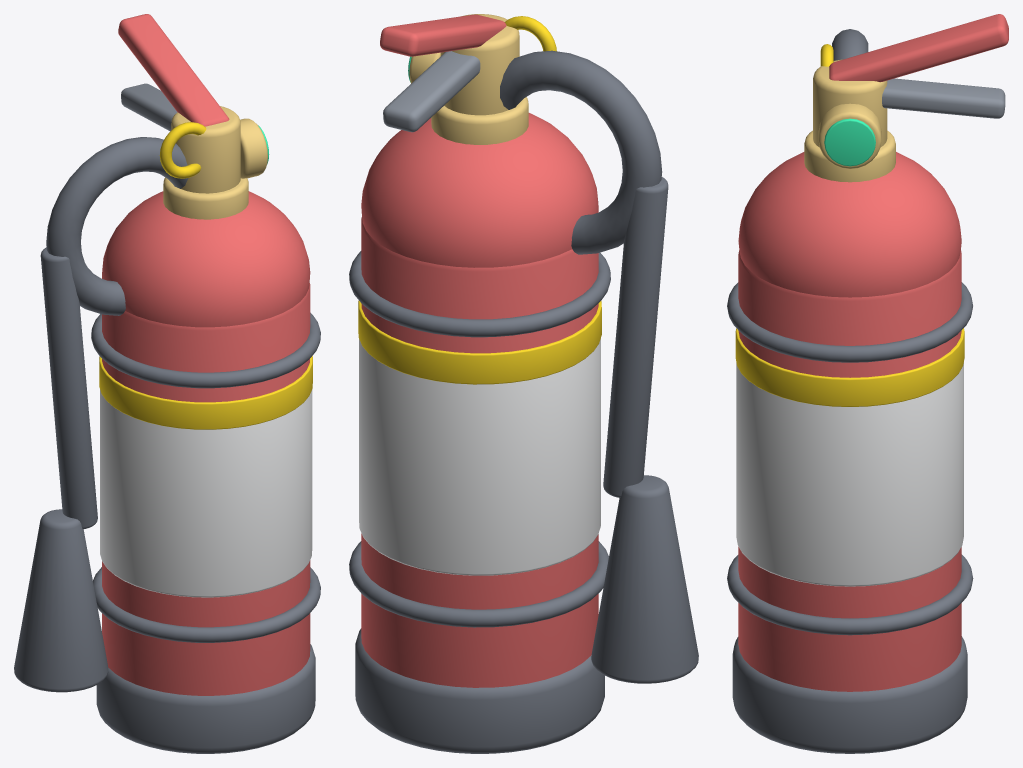
Rendered from SM_FireExtinguisher.fbx.
3 renders of one model, left to right at view 1: azimuth 30°, elevation 25°; view 2: azimuth 150°, elevation 25°; view 3: azimuth 270°, elevation 25°, orthographic. The views are drawn at different scales.
Visible parts, largest first — view 1: SM_FireExtinguisher; view 2: SM_FireExtinguisher; view 3: SM_FireExtinguisher.
Boxes of the visible parts, left/top/right/bottom form: SM_FireExtinguisher: left=14, top=14, right=320, bottom=753; SM_FireExtinguisher: left=349, top=14, right=698, bottom=753; SM_FireExtinguisher: left=727, top=14, right=1008, bottom=753.
Bounding box in the file's own units: 29.56 × 63.65 × 23.64.
